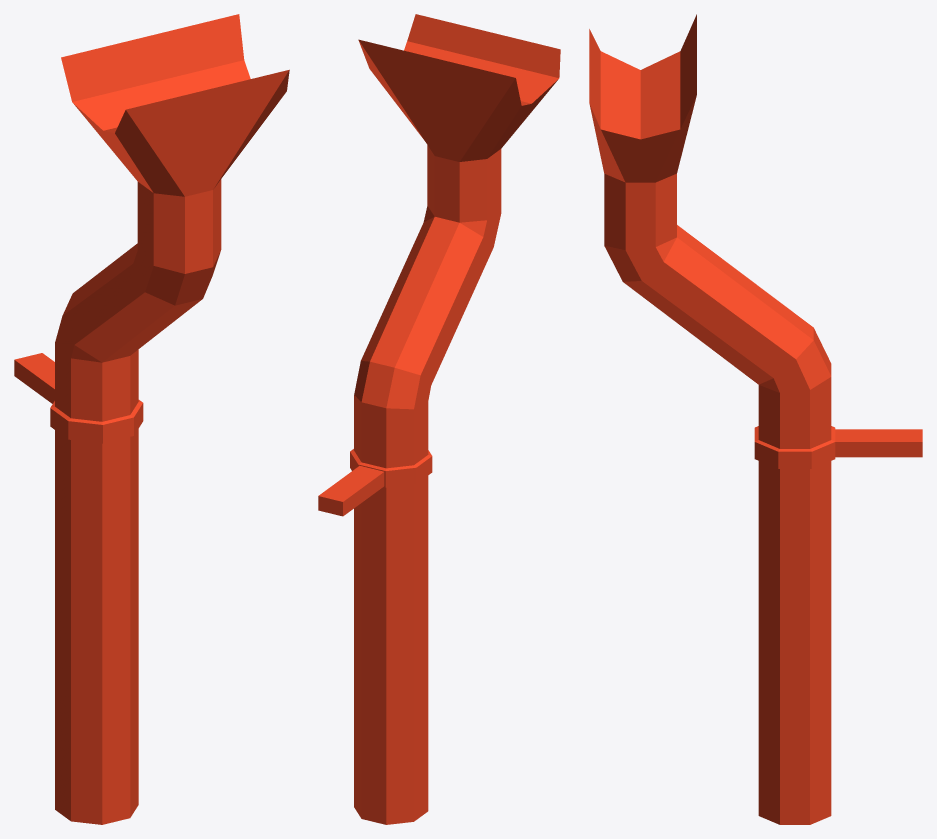
The model's file is SM_Gutter_Pipe_Top_Regular.fbx.
The picture shows the model from 3 angles, left to right: view 1: azimuth 30°, elevation 25°; view 2: azimuth 150°, elevation 25°; view 3: azimuth 270°, elevation 25°; orthographic projection. The views are drawn at different scales.
Parts seen in each view (by area): view 1: gutter-pipe-top-regular; view 2: gutter-pipe-top-regular; view 3: gutter-pipe-top-regular.
Part boxes in pixels (x1,y1,x2,y2): gutter-pipe-top-regular: (14,14,289,824); gutter-pipe-top-regular: (318,14,560,824); gutter-pipe-top-regular: (589,14,922,824).
Size of the model in its own units: 0.3411 by 1.48 by 0.5923.
